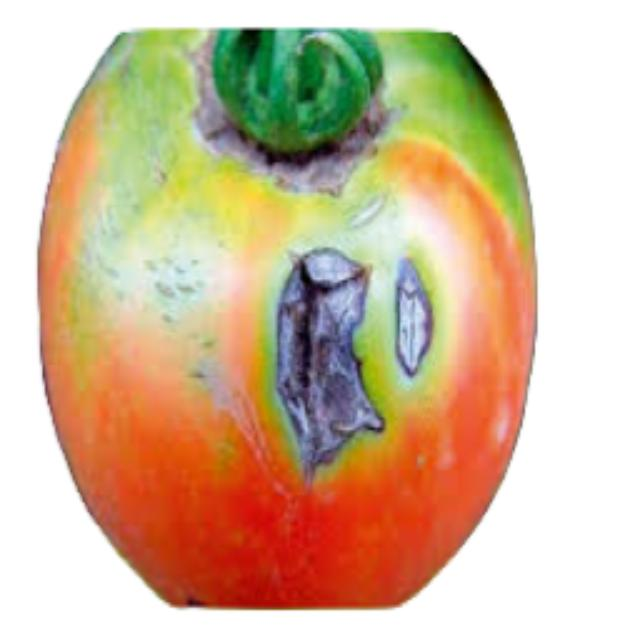defect: (37, 19, 545, 612)
